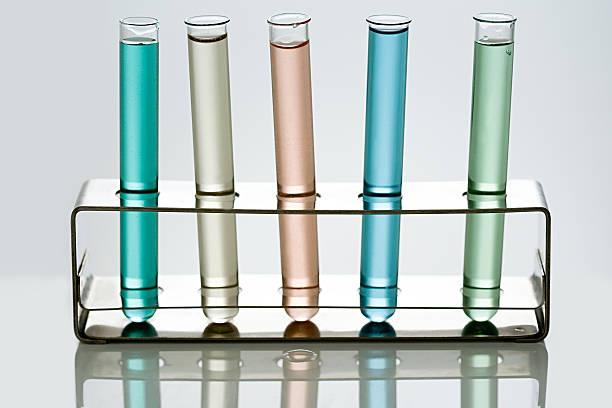Test tube: (350, 6, 432, 322), (257, 12, 335, 314), (180, 5, 248, 322), (459, 10, 506, 320), (108, 24, 155, 323)
